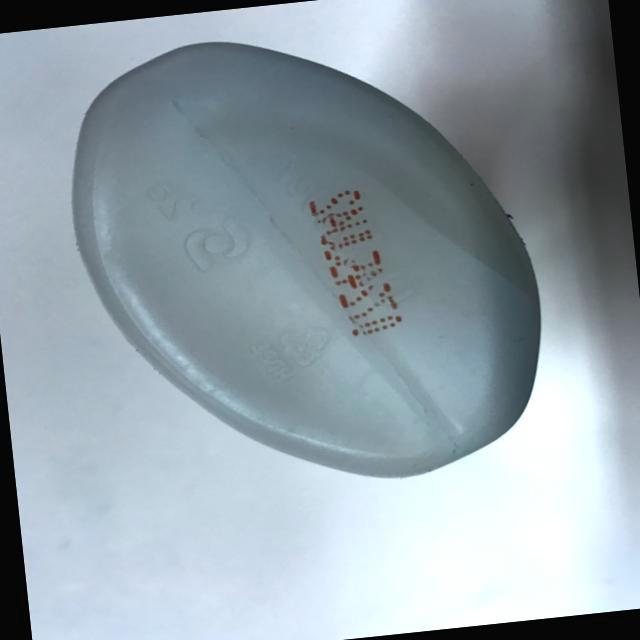plastic: (12, 0, 640, 531)
